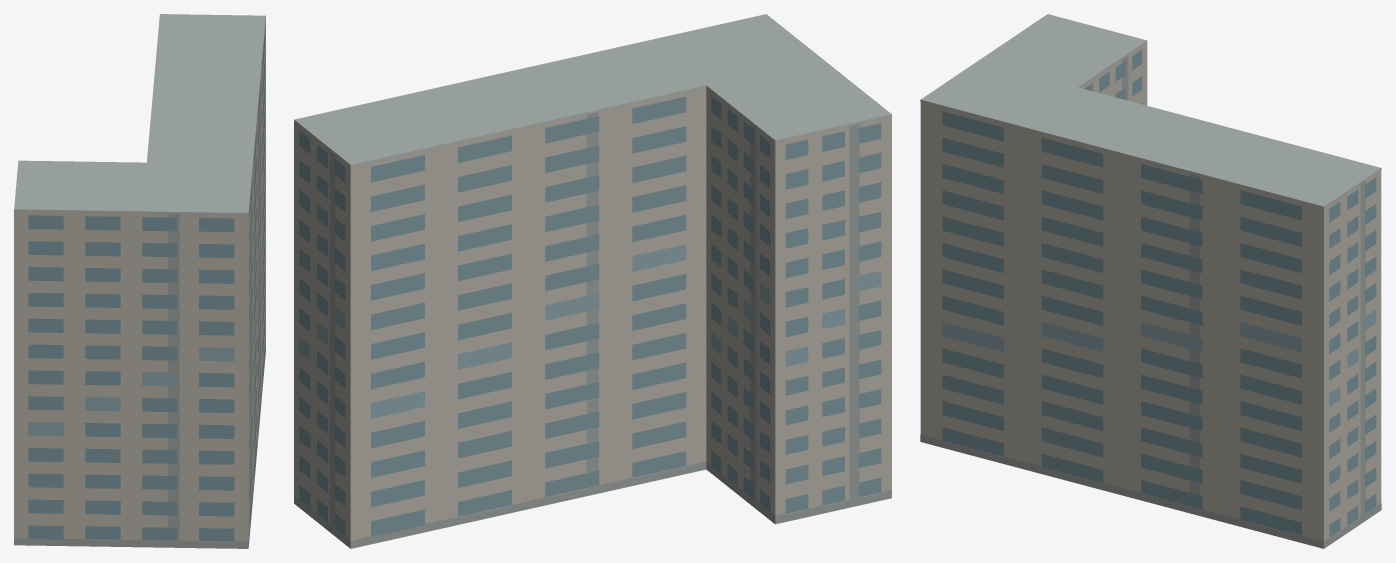
Rendered from residential-de625ade-35f5-4fdf-91d2-c8e844ac1492.glb.
3 views of the same model, side by side, from view 1: azimuth 30°, elevation 25°; view 2: azimuth 150°, elevation 25°; view 3: azimuth 270°, elevation 25° (orthographic). The views are drawn at different scales.
Parts seen in each view (by area): view 1: residential-de625ade-35f5-4fdf-91d2-c8e844ac1492.tmp; view 2: residential-de625ade-35f5-4fdf-91d2-c8e844ac1492.tmp; view 3: residential-de625ade-35f5-4fdf-91d2-c8e844ac1492.tmp.
Part boxes in pixels (box(x1,y1,x2,y2)): residential-de625ade-35f5-4fdf-91d2-c8e844ac1492.tmp: box(14, 14, 265, 548); residential-de625ade-35f5-4fdf-91d2-c8e844ac1492.tmp: box(294, 14, 891, 548); residential-de625ade-35f5-4fdf-91d2-c8e844ac1492.tmp: box(920, 14, 1381, 548).
Size of the model in its own units: 44.66 by 37 by 45.16.
